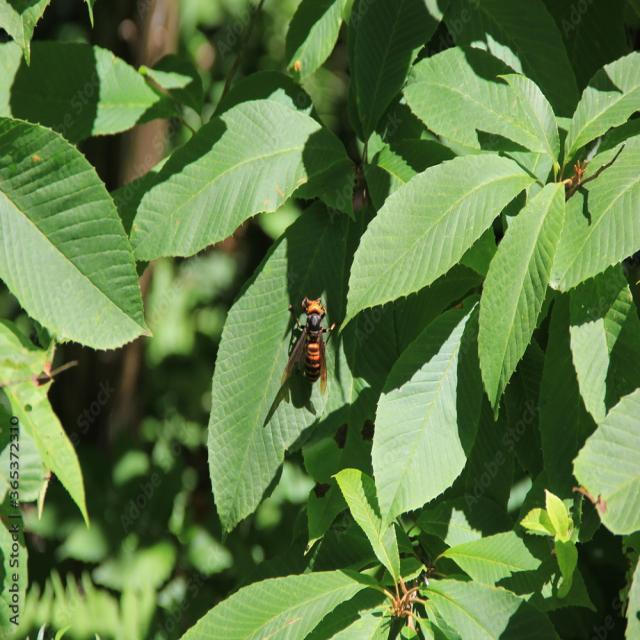Wasp: (280, 290, 338, 402)
